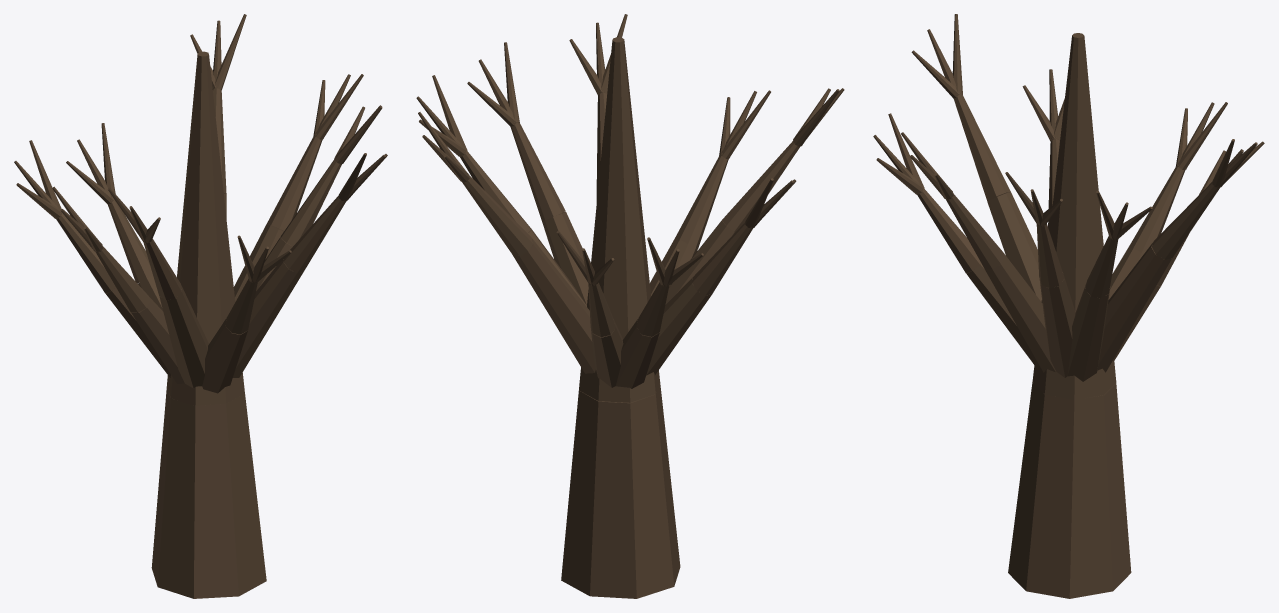
File: oak_ancient_winter_3.glb
3 views of the same model, side by side, from view 1: azimuth 30°, elevation 25°; view 2: azimuth 150°, elevation 25°; view 3: azimuth 270°, elevation 25° (orthographic). The views are drawn at different scales.
Visible parts, largest first — view 1: oak_ancient_winter_3; view 2: oak_ancient_winter_3; view 3: oak_ancient_winter_3.
Boxes of the visible parts, <box> form: oak_ancient_winter_3: <box>14,14,387,598</box>; oak_ancient_winter_3: <box>416,14,844,598</box>; oak_ancient_winter_3: <box>873,14,1264,598</box>.
Bounding box in the file's own units: 15.2 × 23.04 × 15.23.
